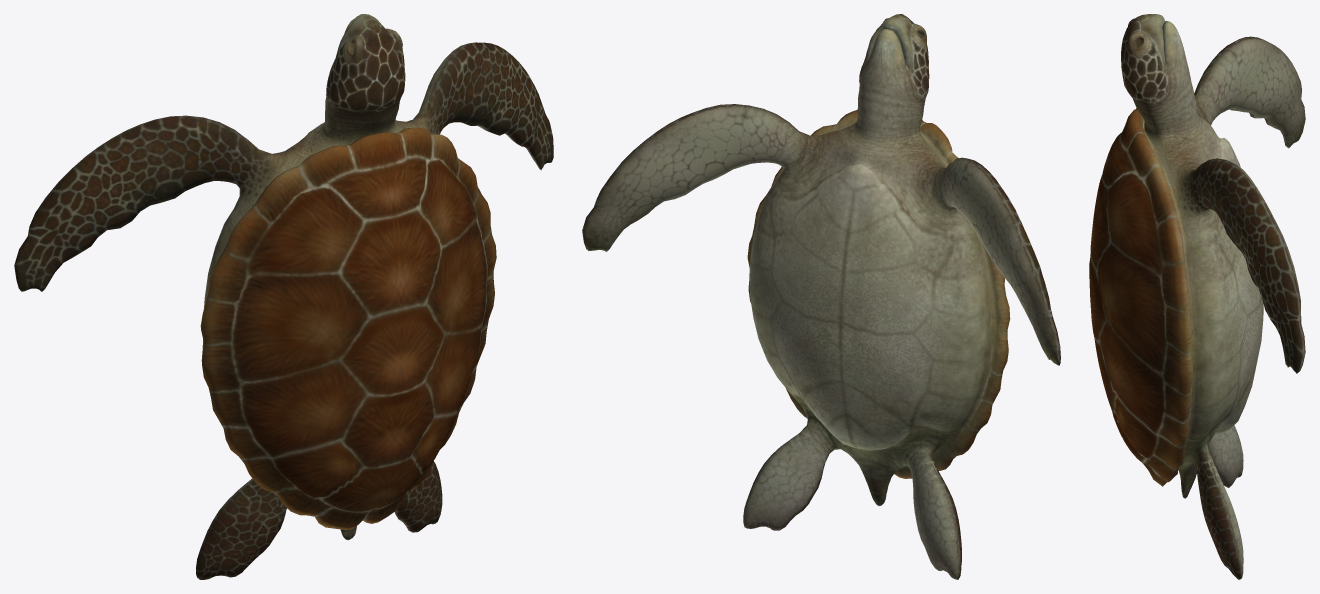
The model's file is Green.fbx.
3 views of the same model, side by side, from view 1: azimuth 30°, elevation 25°; view 2: azimuth 150°, elevation 25°; view 3: azimuth 270°, elevation 25° (orthographic). The views are drawn at different scales.
Parts seen in each view (by area): view 1: Green; view 2: Green; view 3: Green.
Part boxes in pixels (x1,y1,x2,y2): Green: (14, 14, 553, 579); Green: (582, 14, 1060, 579); Green: (1089, 14, 1305, 579).
Size of the model in its own units: 127 by 128 by 48.99.
1 material, 1 textured.
